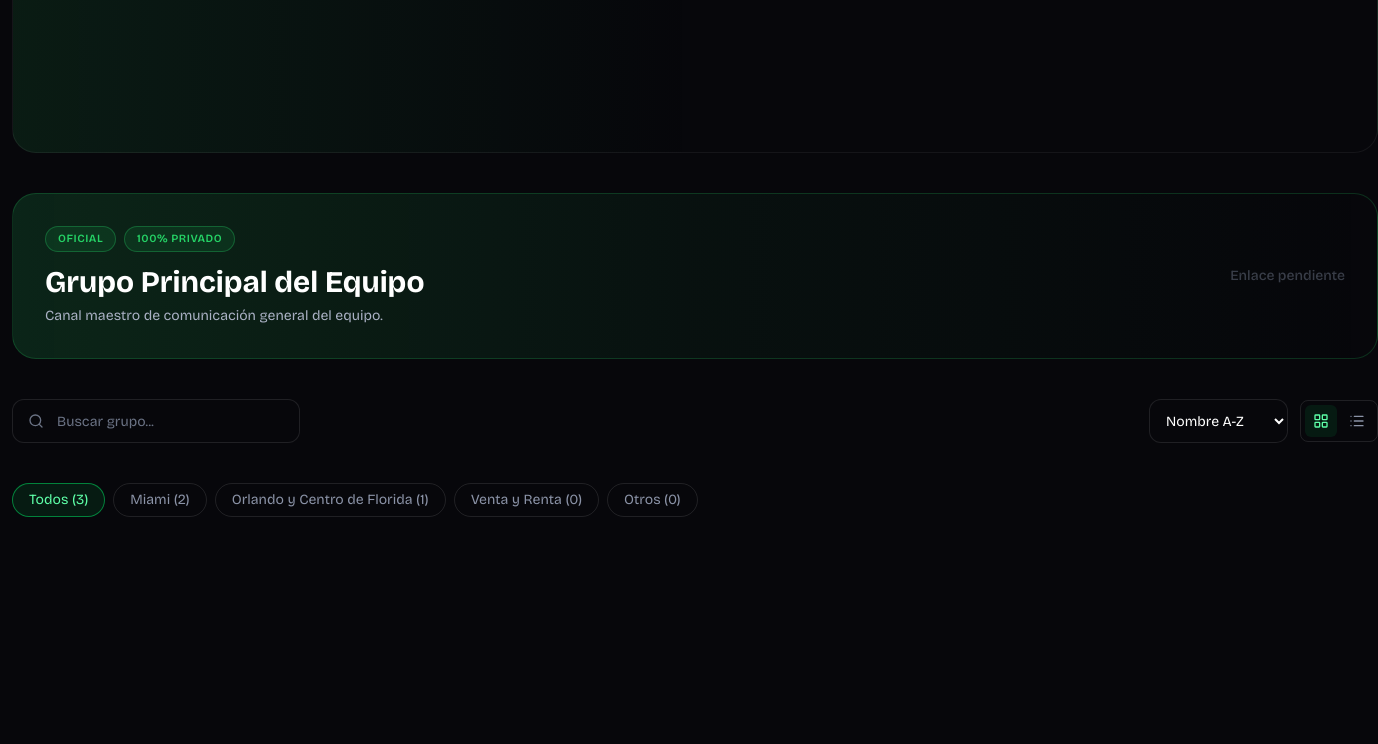
Test: HerramientasHub › filtra por categoría con los chips
The image size is (1378, 744).
(page scrolled)
Click the button "Orlando y Centro de Florida (1)" at (330,500), box [215,483,446,517]
(page scrolled)
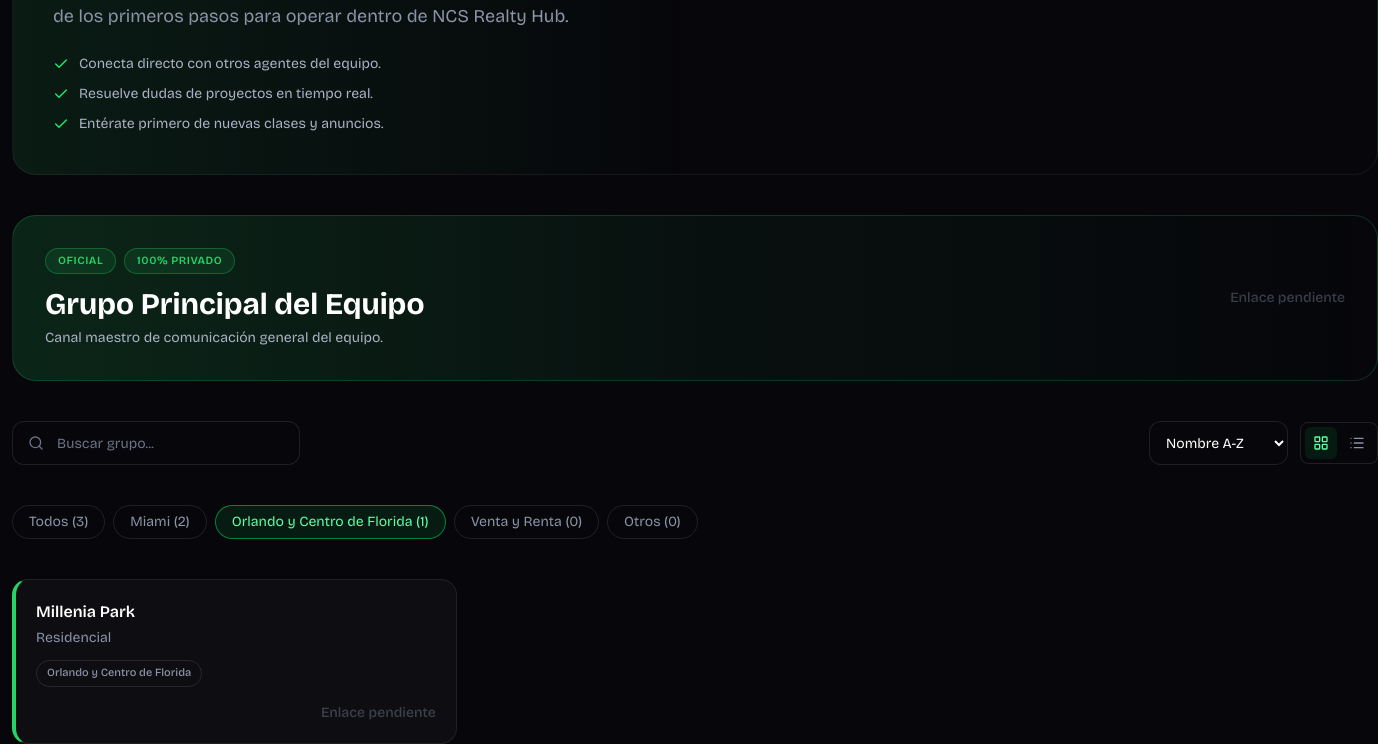
Check: the heading "Millenia Park" is shown, box [36,602,135,621]
